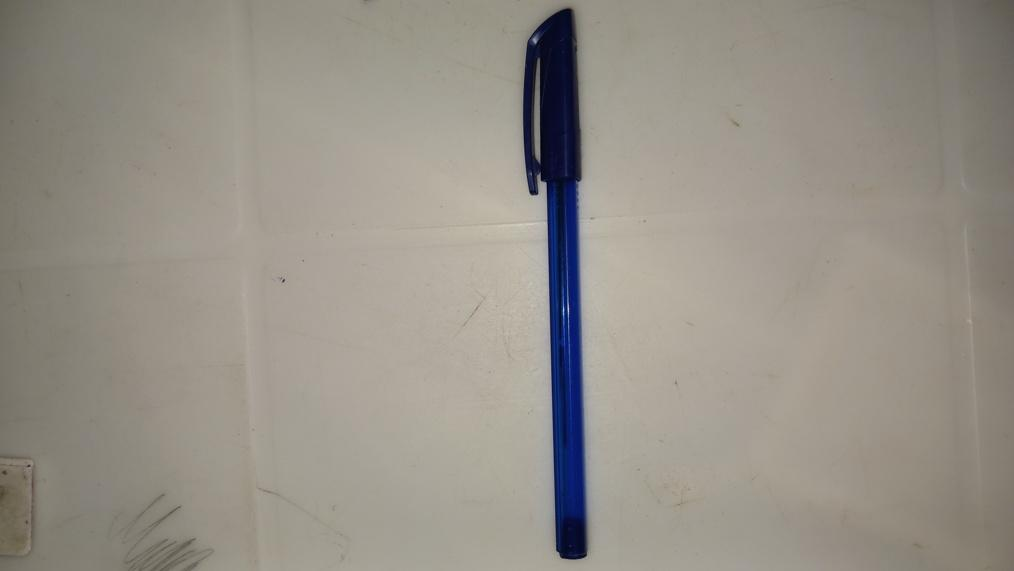pen: (521, 6, 593, 564)
